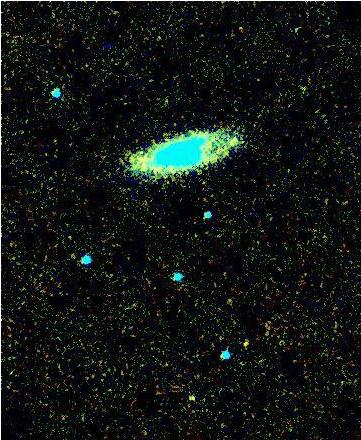star: (223, 329, 253, 359)
